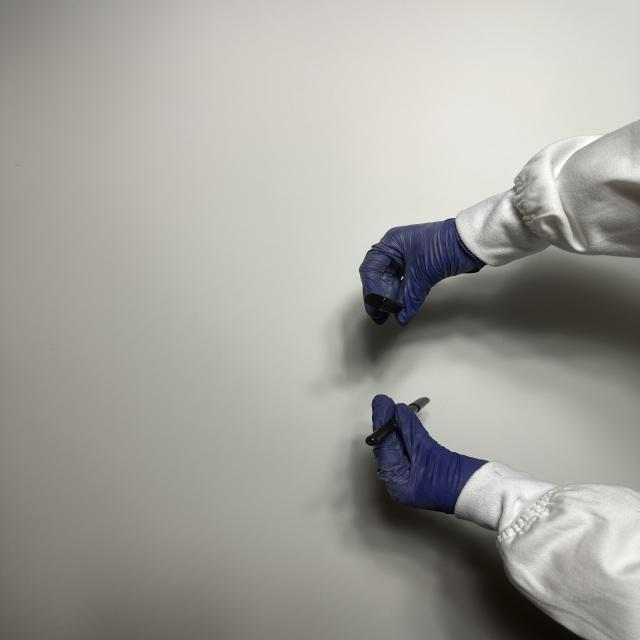gloves_contaminated: (359, 218, 485, 326), (374, 398, 486, 514)
